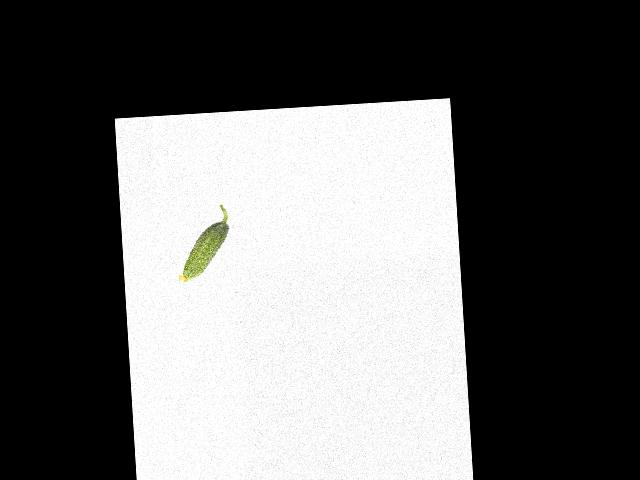cucumber: (173, 205, 232, 283)
